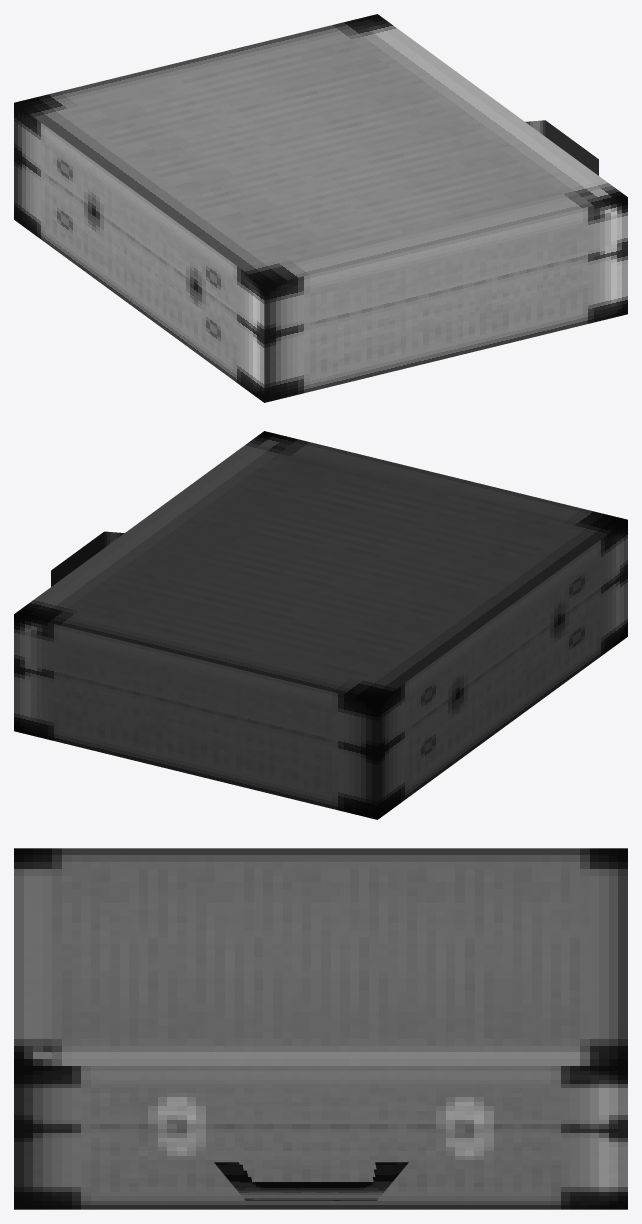
File: PchrbombcaseZ.obj
The picture shows the model from 3 angles, top to bottom: view 1: azimuth 30°, elevation 25°; view 2: azimuth 150°, elevation 25°; view 3: azimuth 270°, elevation 25°; orthographic projection. The views are drawn at different scales.
Size of the model in its own units: 380 by 99 by 384.
5 materials, 5 textured.
